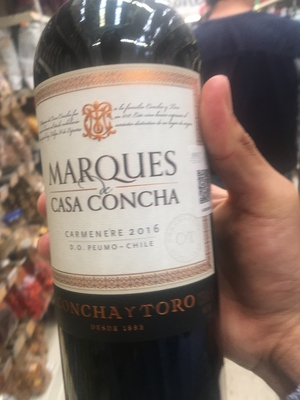marques de casa concha carmenere: (23, 19, 220, 400)
